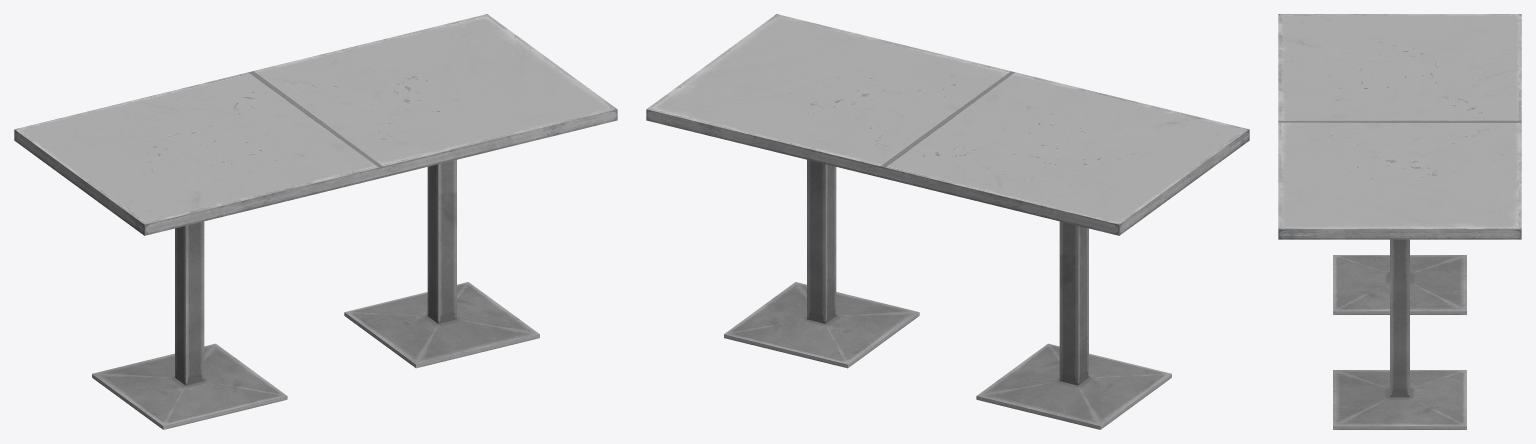
Rendered from MB_Cafe_Table_04.fbx.
The picture shows the model from 3 angles, left to right: view 1: azimuth 30°, elevation 25°; view 2: azimuth 150°, elevation 25°; view 3: azimuth 270°, elevation 25°; orthographic projection. The views are drawn at different scales.
Visible parts, largest first — view 1: MB_Cafe_Table_04; view 2: MB_Cafe_Table_04; view 3: MB_Cafe_Table_04.
Boxes of the visible parts, x1,y1,x2,y2 form: MB_Cafe_Table_04: (14, 14, 617, 429); MB_Cafe_Table_04: (646, 14, 1249, 429); MB_Cafe_Table_04: (1278, 14, 1521, 429).
Size of the model in its own units: 160 by 77.06 by 76.36.
